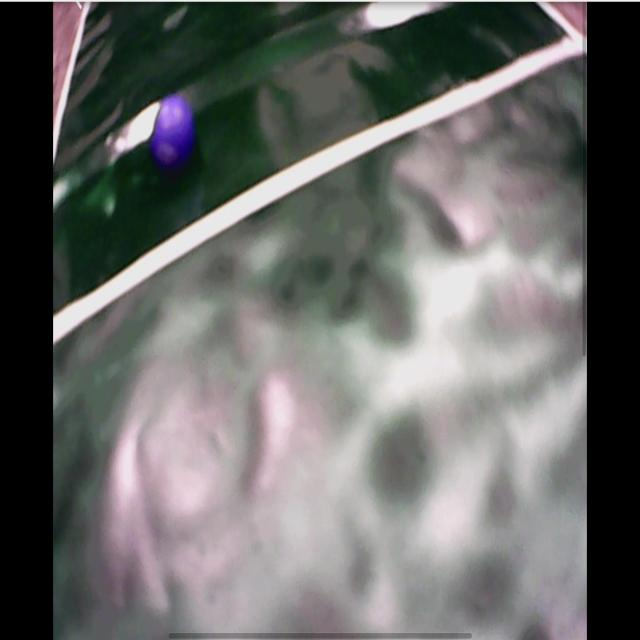ball: (150, 95, 196, 167)
